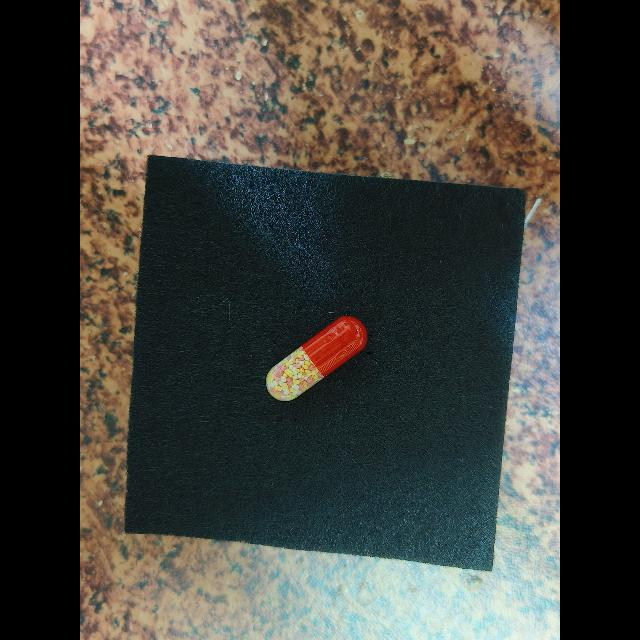Intact Capsule: (266, 316, 367, 401)
